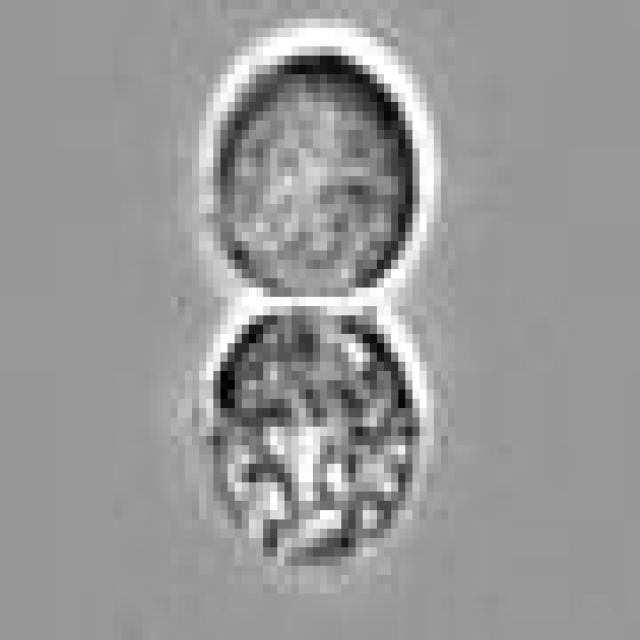Cancer Cell: (206, 46, 420, 306)
WBC: (206, 306, 420, 566)
